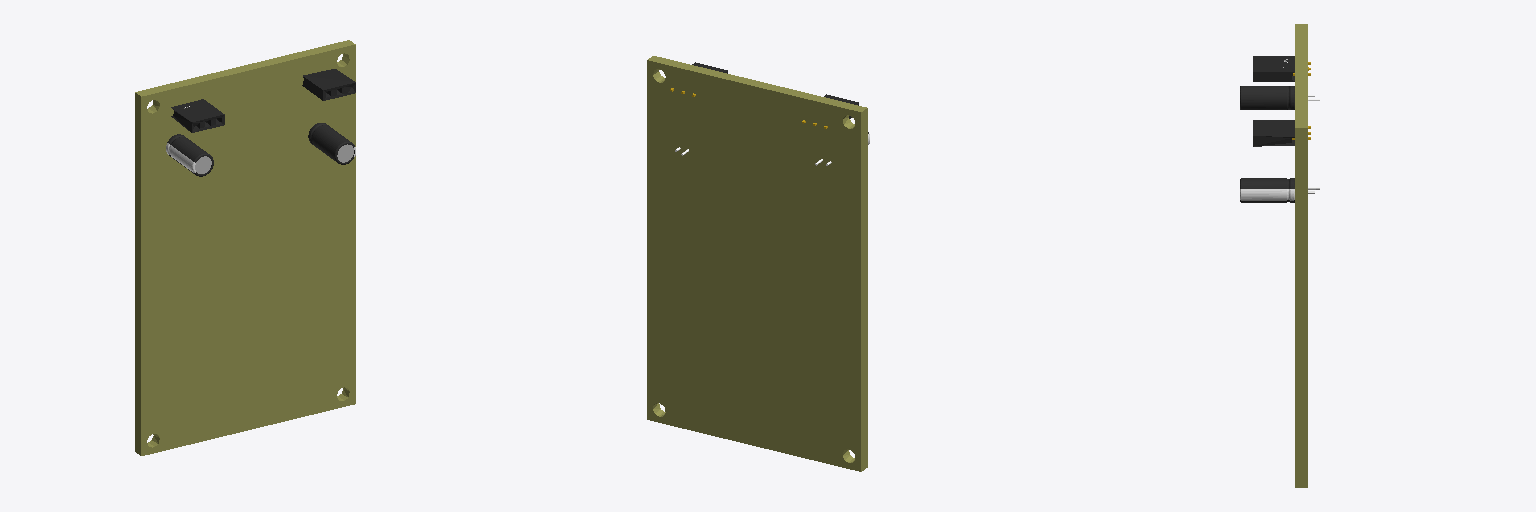
Rendered from OBJ_PCB_flight-control_2.obj.
The picture shows the model from 3 angles: view 1: azimuth 30°, elevation 25°; view 2: azimuth 150°, elevation 25°; view 3: azimuth 270°, elevation 25°; orthographic projection.
Size of the model in its own units: 196 by 314 by 63.13.